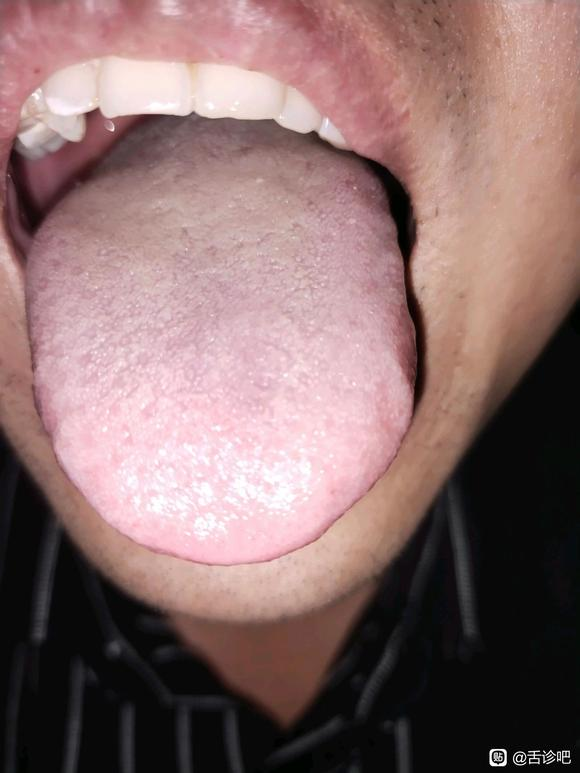baitaishe: (25, 115, 417, 568)
